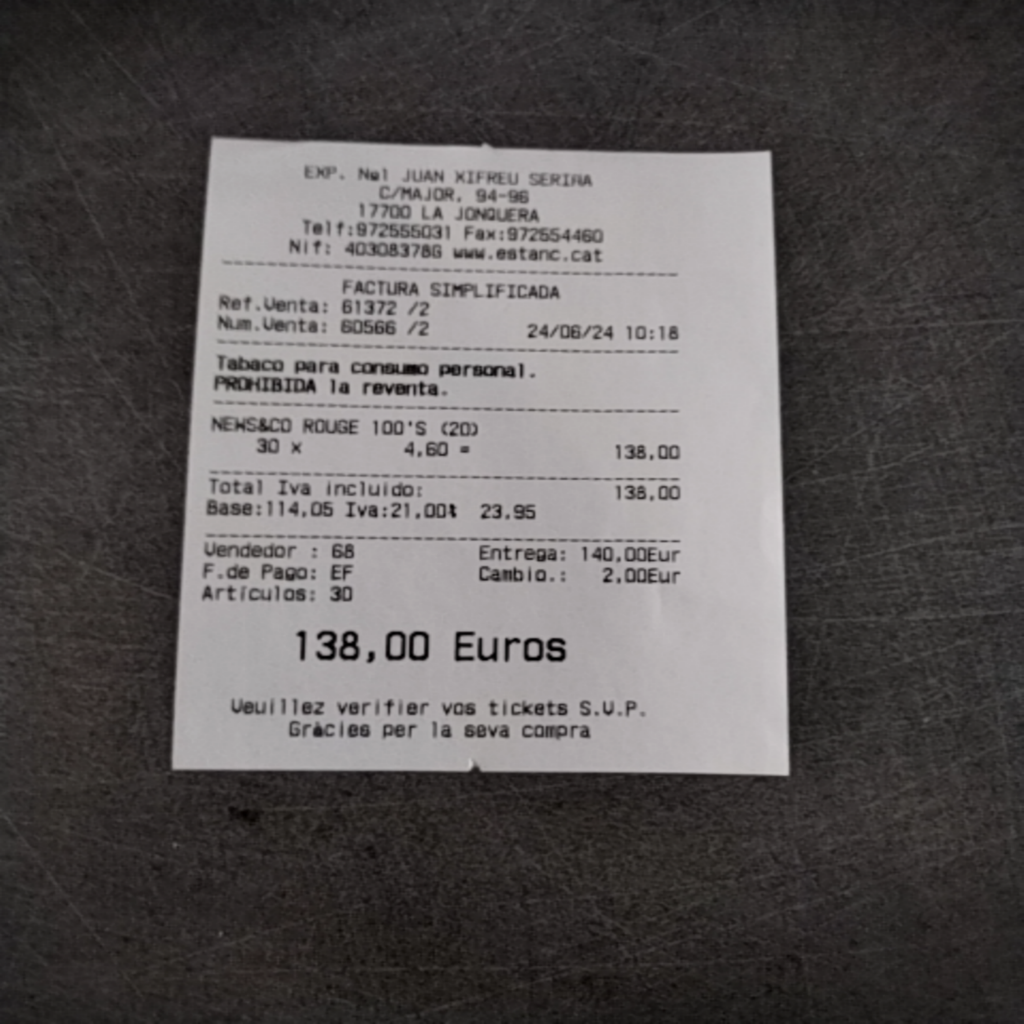recipt: (172, 134, 787, 779)
